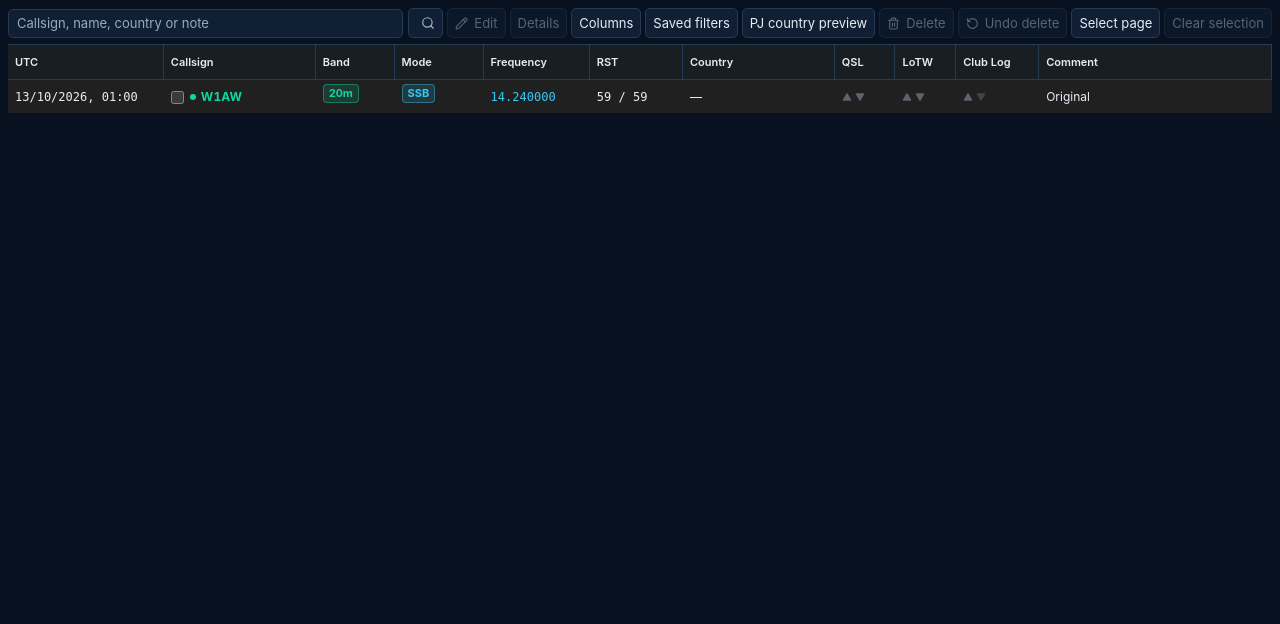
Scenario: retains a conflicting edit from another view without overwriting it
The image size is (1280, 624).
Click the text "W1AW" at (240, 96), box [164,80,316,113]
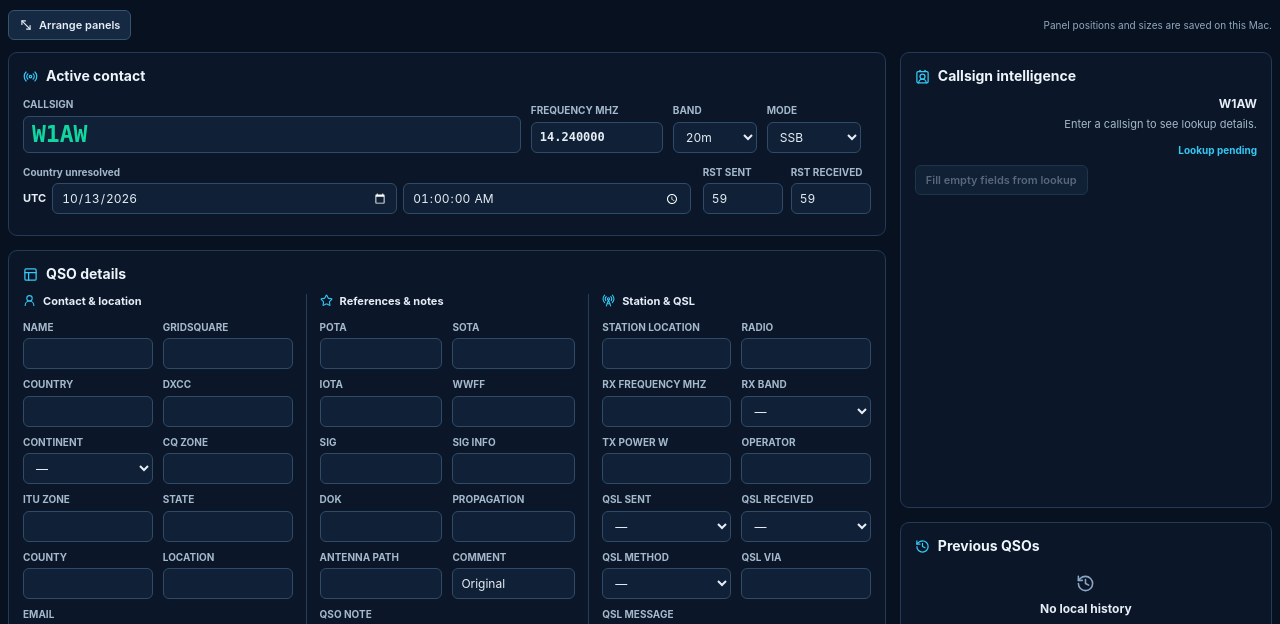
Replace the text in the field labelled "Comment" with "My unsaved text" at (514, 584), box [452,568,575,599]
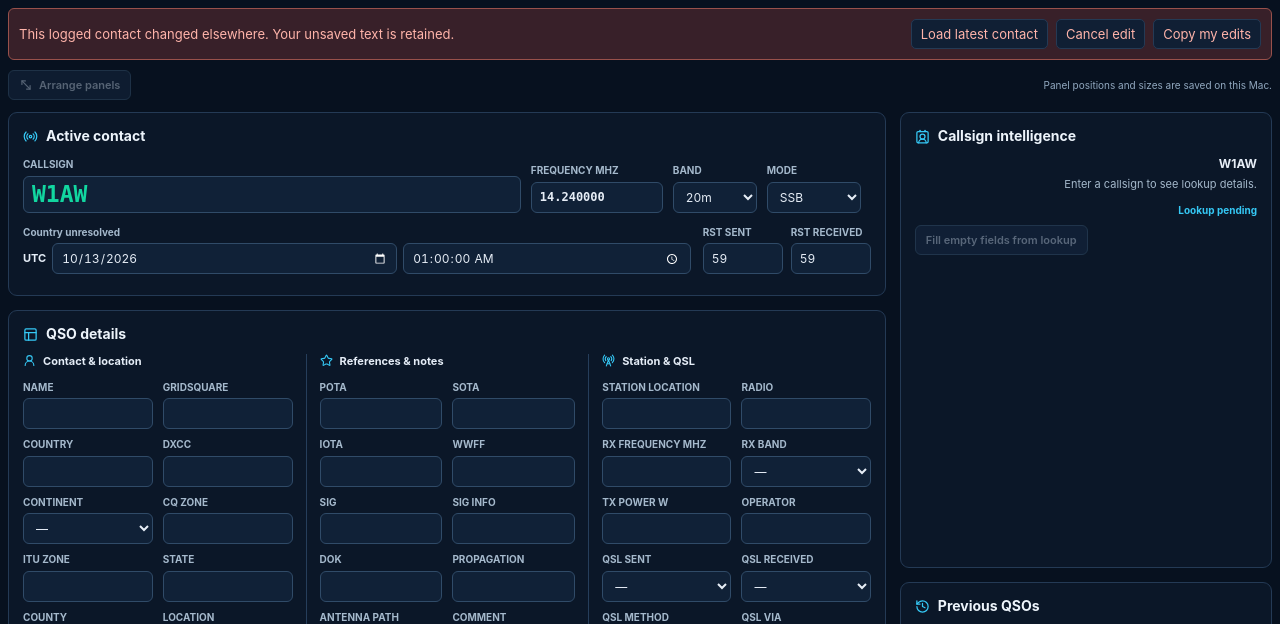
Expected: the text "This logged contact changed elsewhere. Your unsaved text is retained." is shown, [19,26,454,42]
Click the button "Load latest contact" at (979, 34), box [911,19,1048,49]
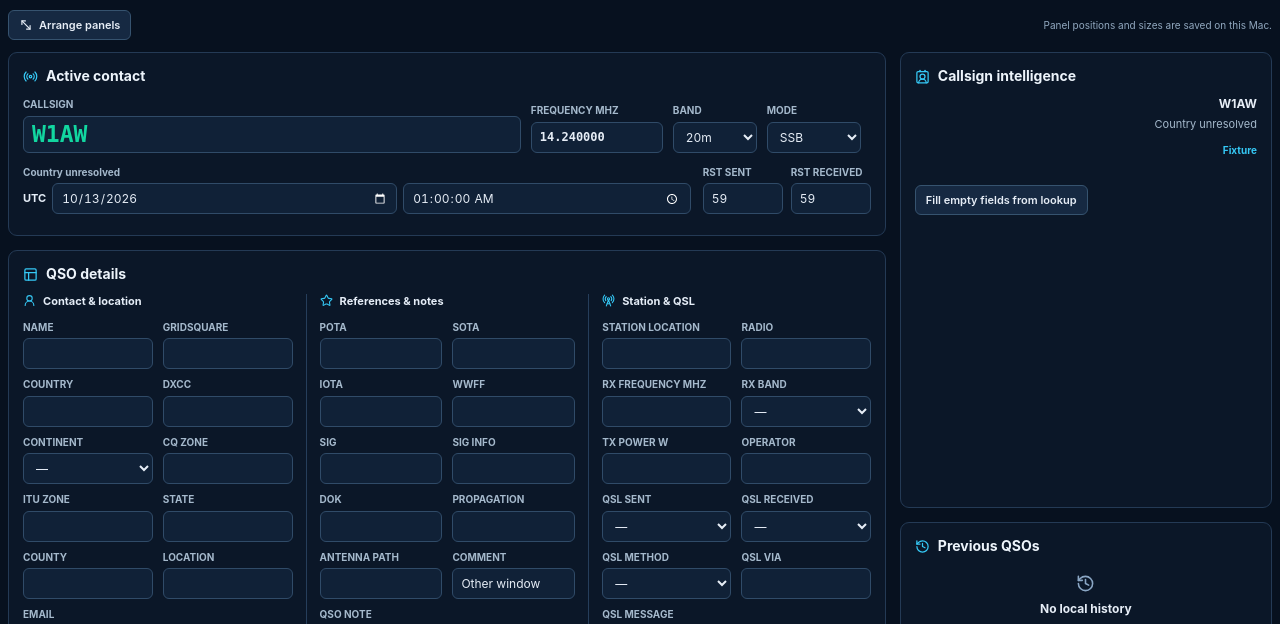
Expected: the field labelled "Comment" holds "Other window", [452,568,575,599]
